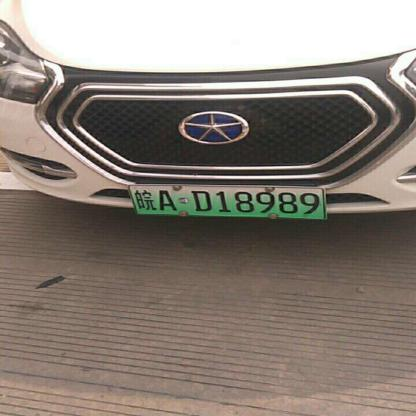lp: (128, 185, 326, 219)
